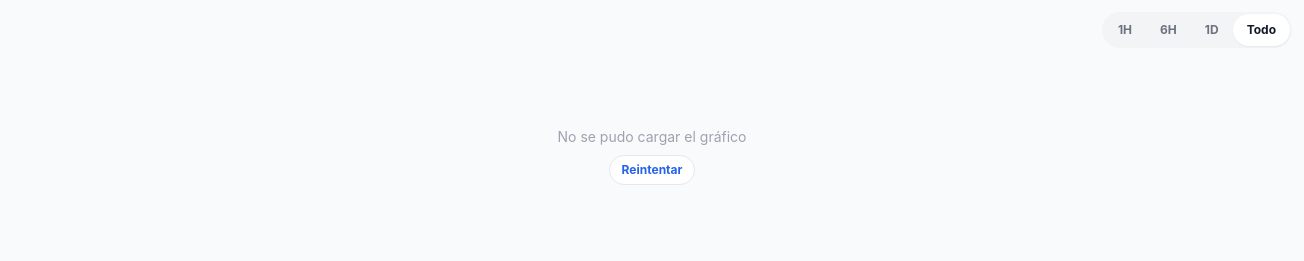
Test: PriceChart / GroupChart / NetWorthChart / PortfolioChart › si el servidor falla muestra el aviso con «Reintentar» y se recupera
This screenshot has width=1304, height=261.
Click the button "Reintentar".
click(652, 170)  # box [609,155,695,185]
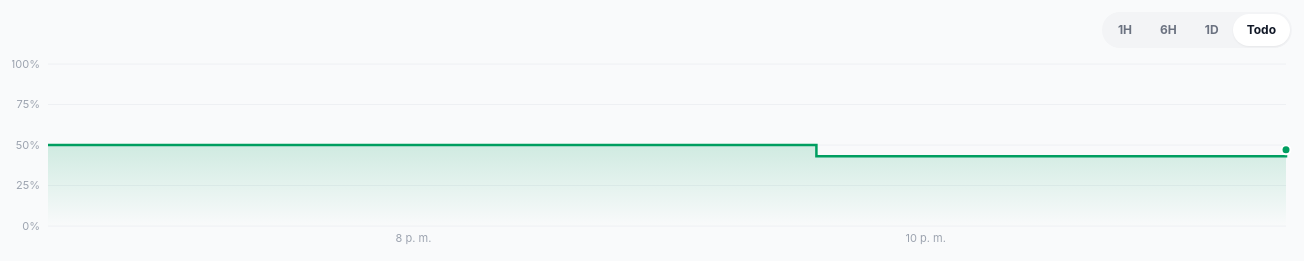
Result: the text "No se pudo cargar el gráfico" is gone
